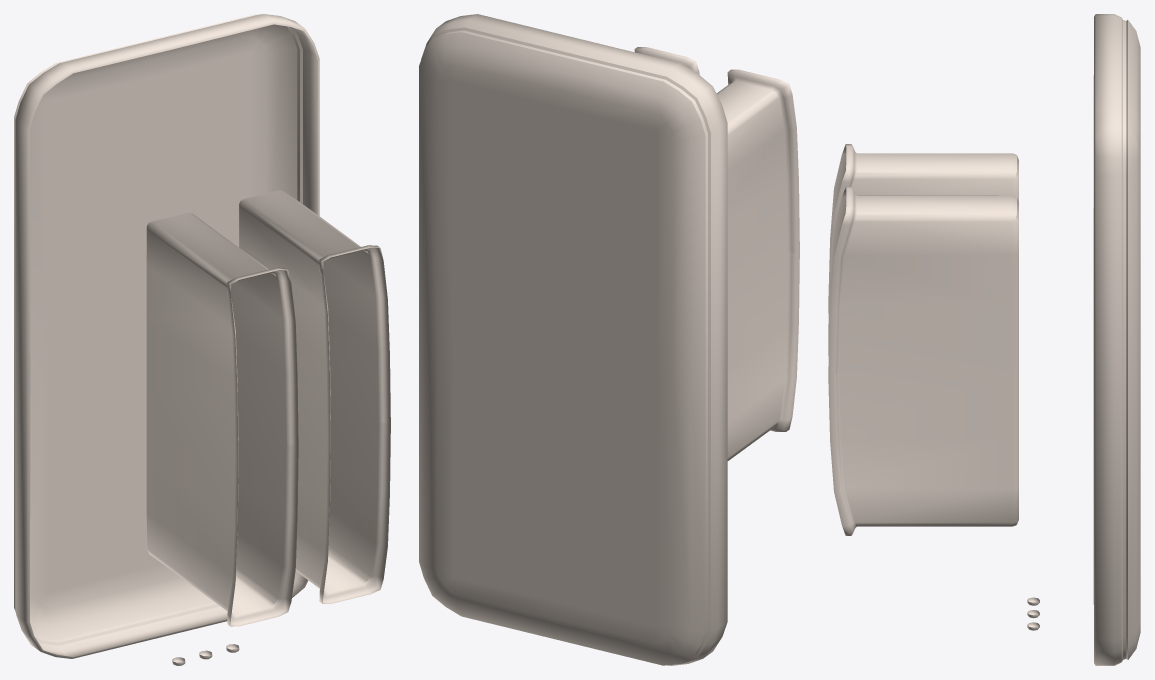
The model's file is MeshToaster_19_0_GeomSubset_2.obj.
3 renders of one model, left to right at view 1: azimuth 30°, elevation 25°; view 2: azimuth 150°, elevation 25°; view 3: azimuth 270°, elevation 25°, orthographic. The views are drawn at different scales.
Visible parts, largest first — view 1: MeshToaster_19_0_GeomSubset_2; view 2: MeshToaster_19_0_GeomSubset_2; view 3: MeshToaster_19_0_GeomSubset_2.
Part boxes in pixels (bbox=[...]): MeshToaster_19_0_GeomSubset_2: bbox=[14, 14, 390, 665]; MeshToaster_19_0_GeomSubset_2: bbox=[419, 14, 799, 665]; MeshToaster_19_0_GeomSubset_2: bbox=[828, 14, 1140, 665].
Size of the model in its own units: 0.2285 by 0.4381 by 0.2234.
